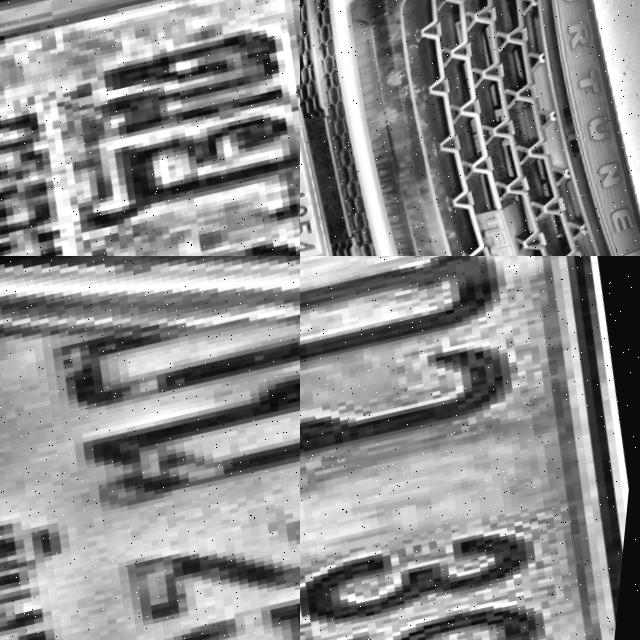license-plate: (300, 256, 640, 640), (0, 256, 300, 640), (0, 0, 300, 256), (300, 101, 359, 256)
